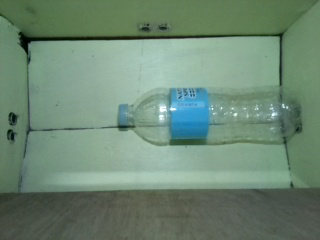bottle: (116, 85, 303, 147)
